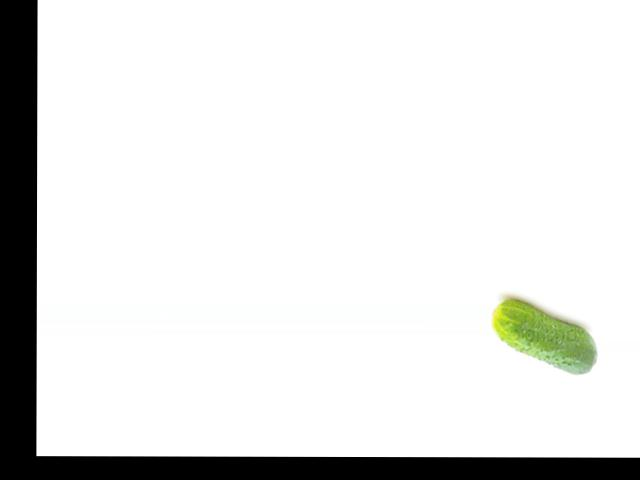cucumber: (491, 299, 597, 374)
